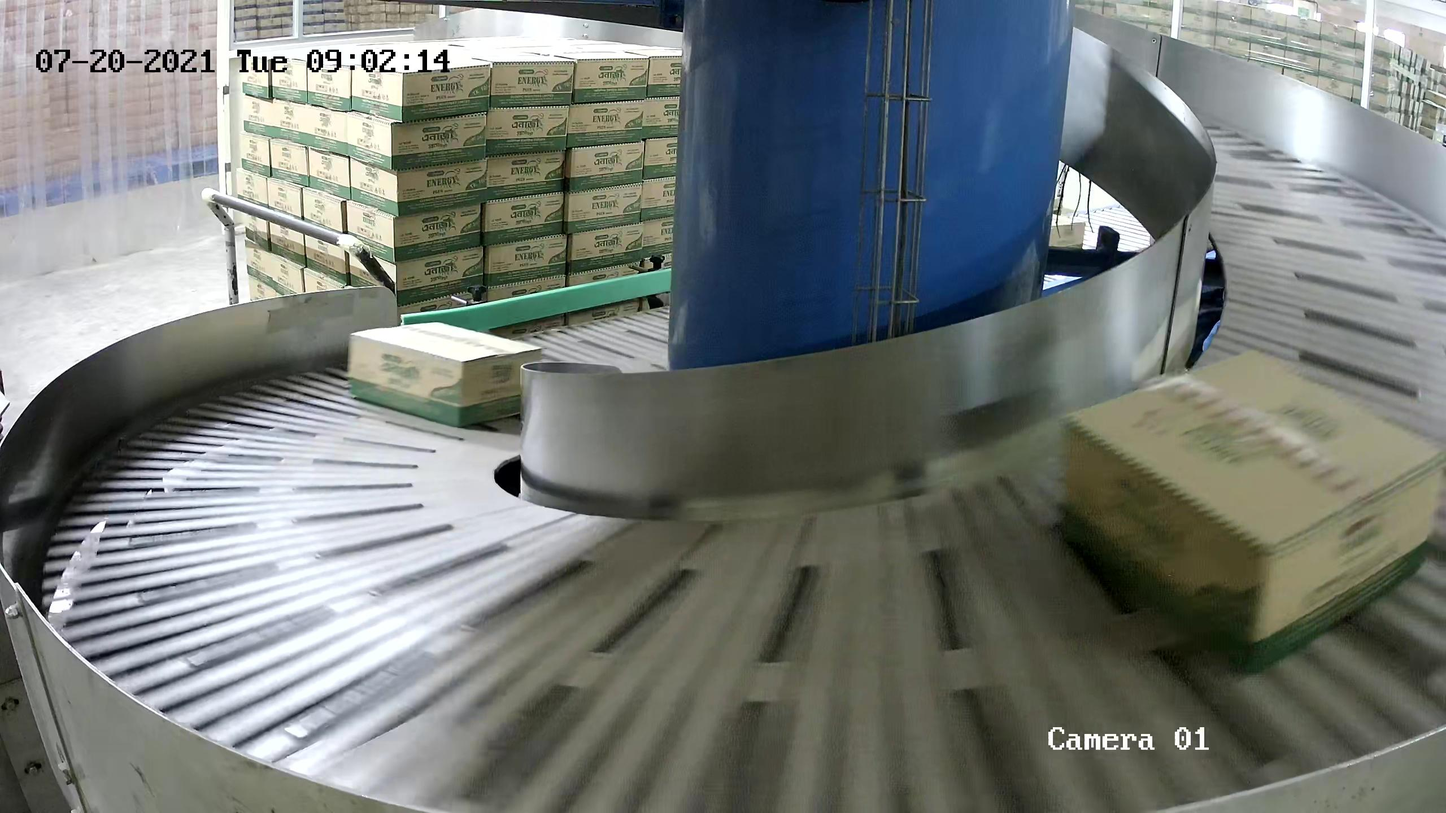Box: (1057, 345, 1446, 679), (345, 319, 544, 429)
